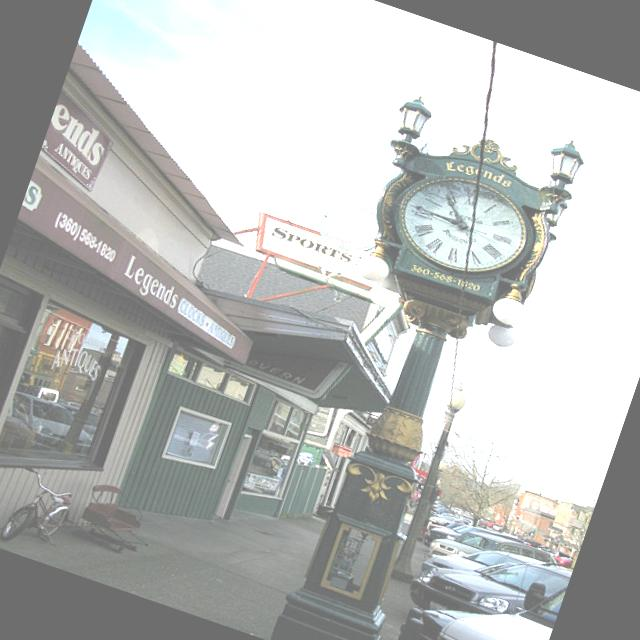Vehicle: (405, 506, 581, 640), (401, 520, 572, 640), (426, 514, 564, 598), (416, 520, 546, 606), (422, 508, 526, 576), (428, 510, 466, 532), (552, 551, 576, 569), (458, 516, 474, 526)
